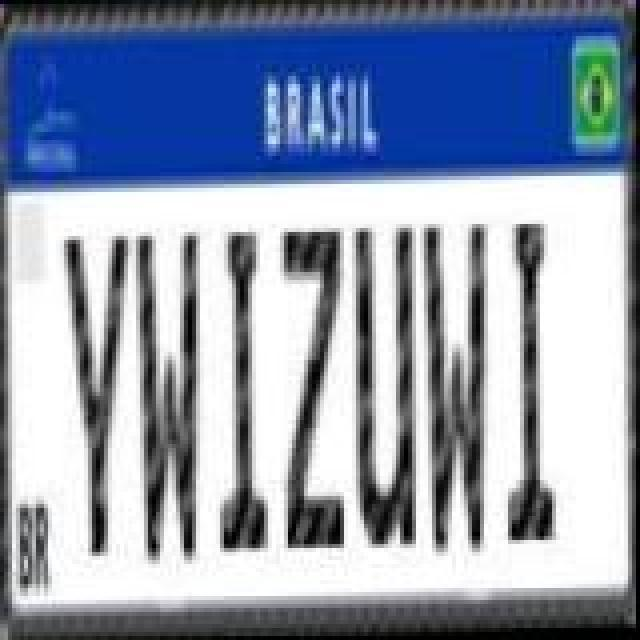I: (216, 228, 272, 556), (504, 218, 560, 546)
U: (350, 222, 418, 550)
W: (134, 230, 202, 570), (422, 224, 490, 560)
Y: (66, 228, 134, 560)
Z: (280, 222, 344, 554)
